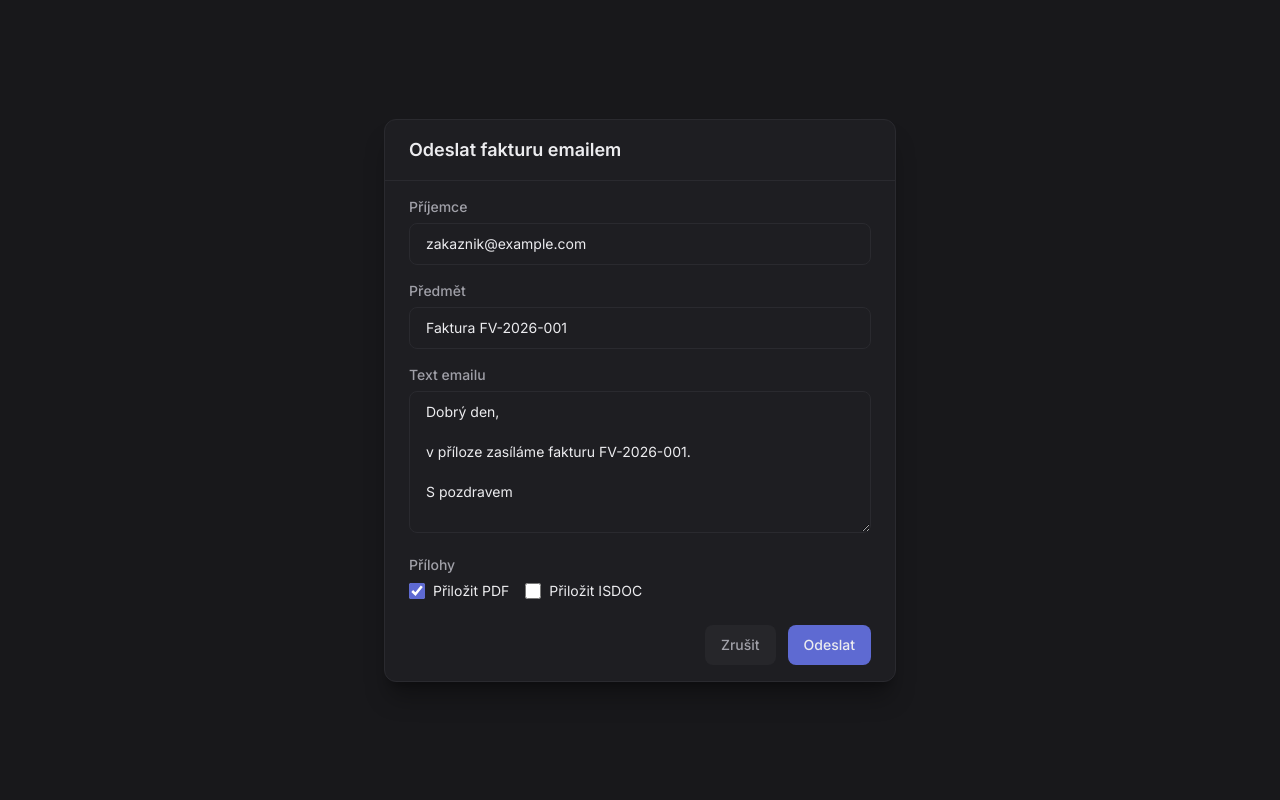
Test: SendEmailDialog › displays error on failure
Check: the field labelled "Předmět" holds "Faktura FV-2026-001", box [409, 306, 871, 348]
Click the button "Odeslat".
click(829, 644)  # box [788, 624, 871, 664]
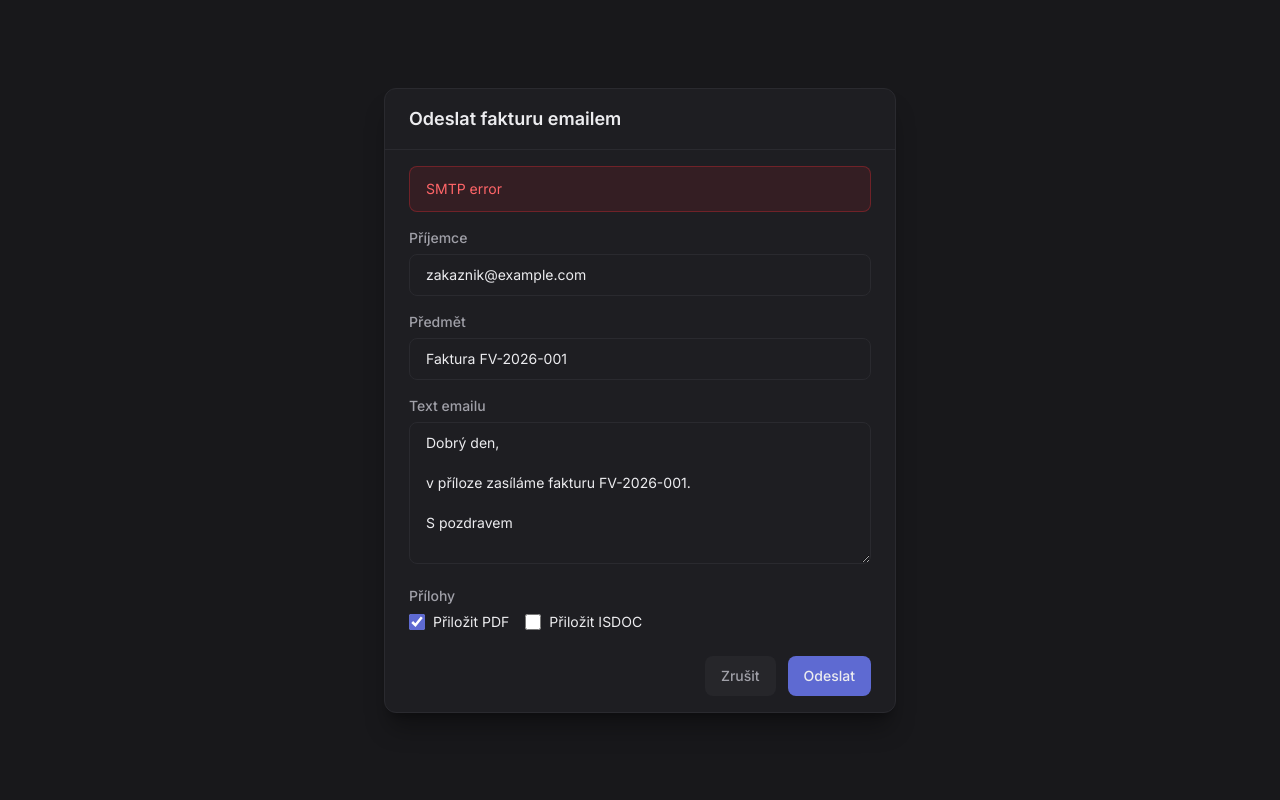
Check: the message "SMTP error" is shown, box [409, 166, 871, 212]
